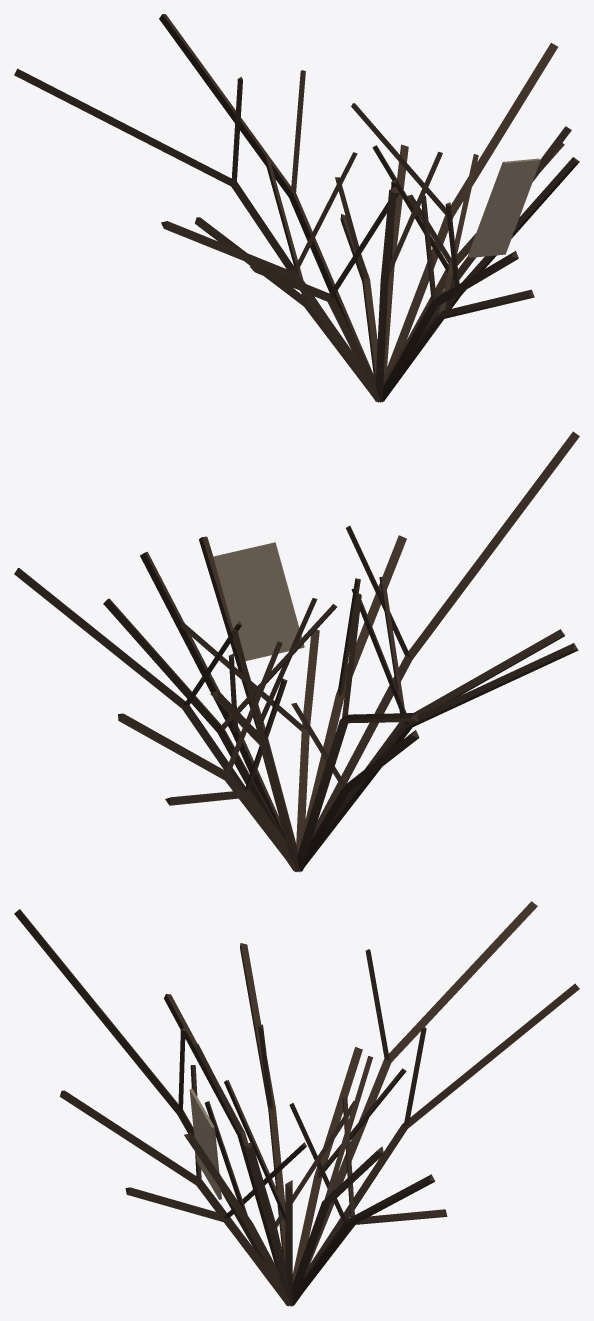
File: dead_bush.glb
3 views of the same model, one above another, from view 1: azimuth 30°, elevation 25°; view 2: azimuth 150°, elevation 25°; view 3: azimuth 270°, elevation 25° (orthographic). The views are drawn at different scales.
Visible parts, largest first — view 1: dead_bush; view 2: dead_bush; view 3: dead_bush.
Boxes of the visible parts, <box> form: dead_bush: <box>14,14,579,402</box>; dead_bush: <box>14,431,579,872</box>; dead_bush: <box>14,901,579,1306</box>.
Bounding box in the file's own units: 1.73 × 1.23 × 1.88.
